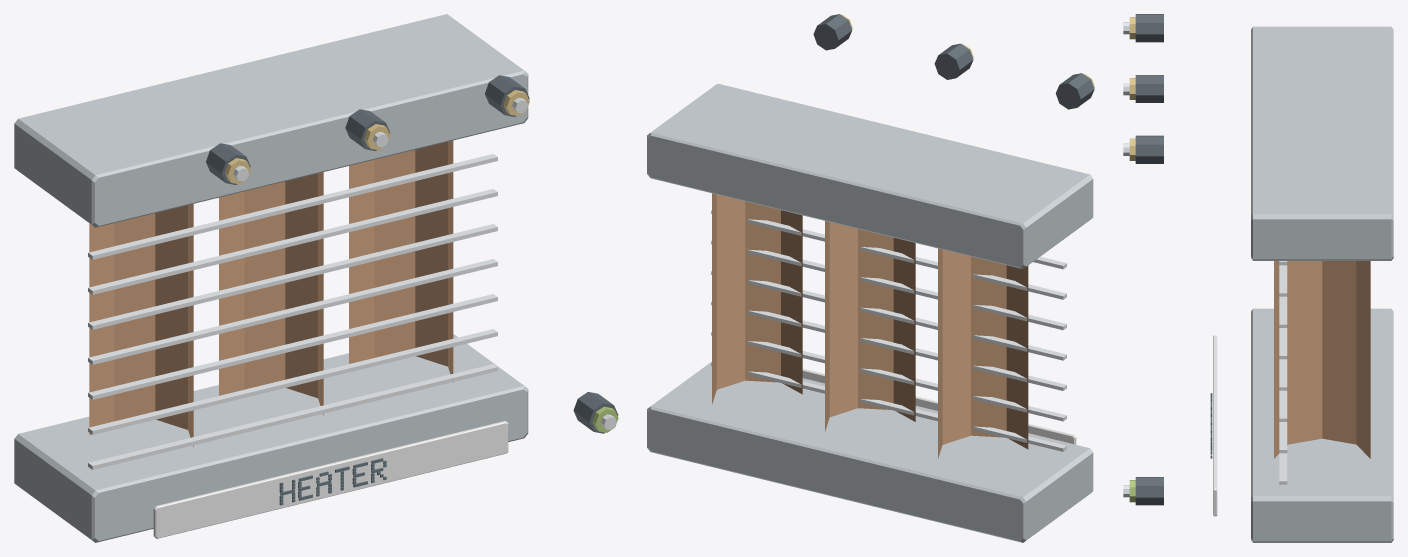
Rendered from heater3Phase.glb.
The picture shows the model from 3 angles, left to right: view 1: azimuth 30°, elevation 25°; view 2: azimuth 150°, elevation 25°; view 3: azimuth 270°, elevation 25°; orthographic projection. The views are drawn at different scales.
Parts seen in each view (by area): view 1: heater3Phase-board; view 2: heater3Phase-board; view 3: heater3Phase-board.
Boxes of the visible parts, left/top/right/bottom form: heater3Phase-board: left=14, top=14, right=618, bottom=542; heater3Phase-board: left=647, top=14, right=1094, bottom=542; heater3Phase-board: left=1123, top=14, right=1393, bottom=542.
Bounding box in the file's own units: 3.03 × 2.63 × 1.72.
